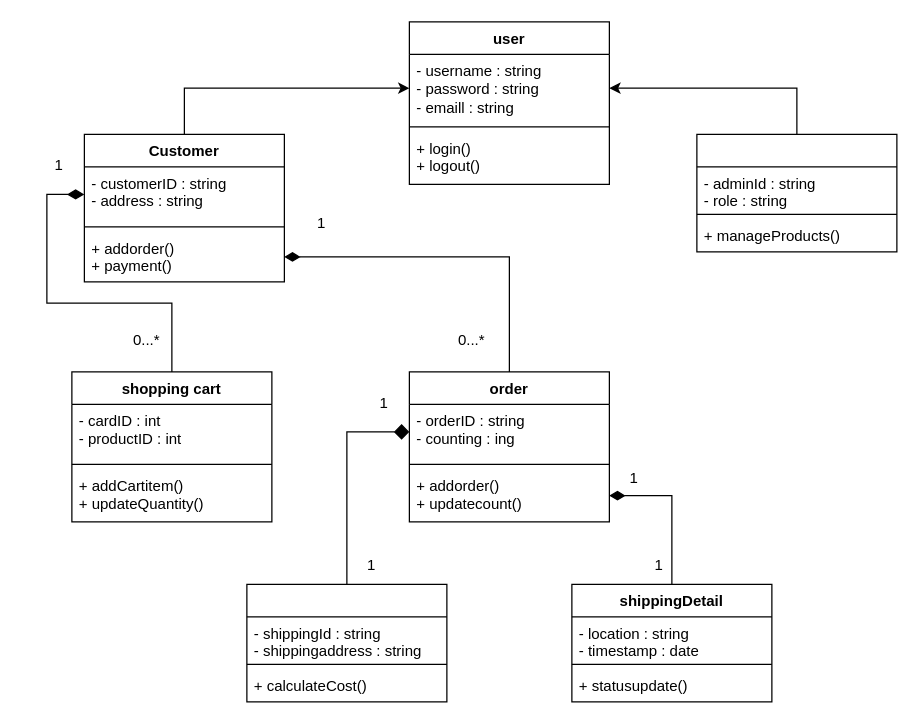
Image size: 919x728. Some labels were removed from this diagram. Each missing label, with the box of its shape:
administrator: (696, 133, 897, 252)
shippinginfo: (246, 583, 447, 702)
